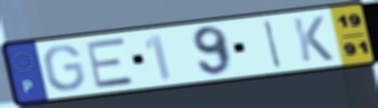1: (143, 33, 173, 82)
9: (189, 24, 234, 78)
E: (83, 36, 138, 91)
G: (42, 43, 88, 93)
I: (263, 18, 284, 70)
K: (290, 15, 336, 64)
